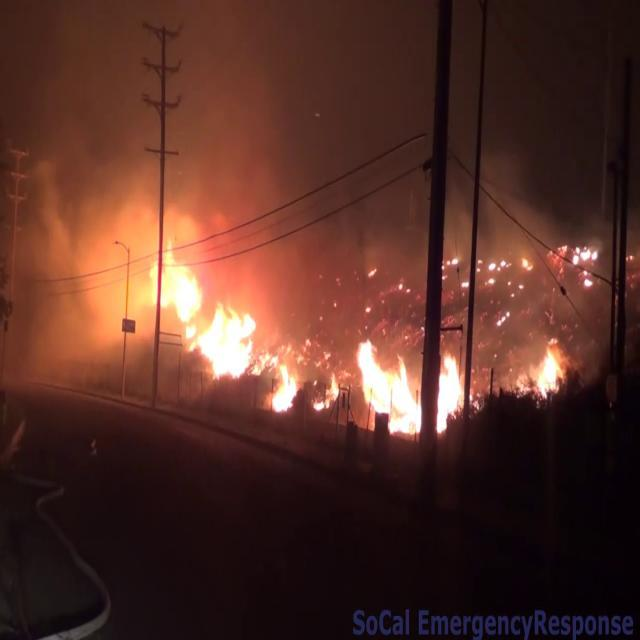Fire: (90, 211, 266, 377), (352, 333, 422, 442), (434, 348, 466, 432), (531, 342, 565, 402), (270, 350, 300, 416)
Smoke: (0, 0, 403, 263), (353, 16, 574, 362)
